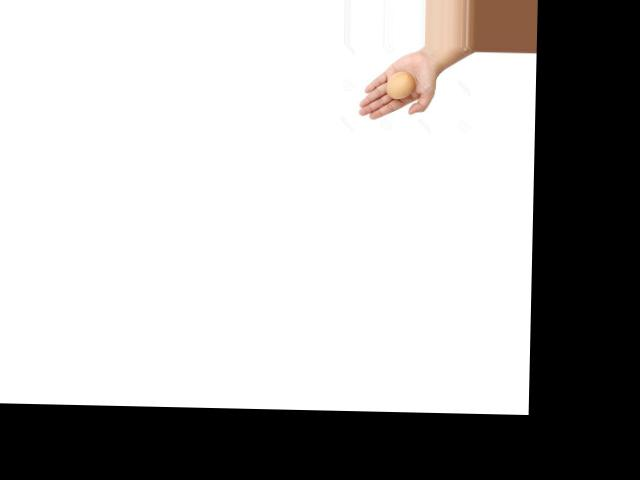egg: (386, 70, 416, 98)
